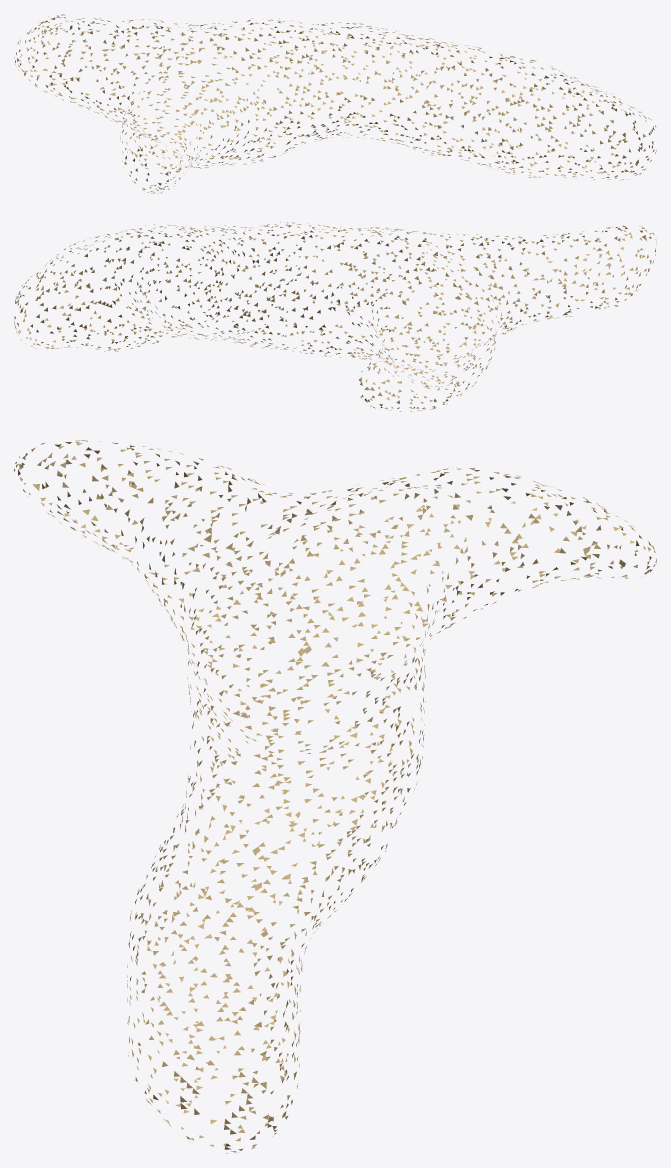
File: morph_007.glb
3 views of the same model, one above another, from view 1: azimuth 30°, elevation 25°; view 2: azimuth 150°, elevation 25°; view 3: azimuth 270°, elevation 25° (orthographic). The views are drawn at different scales.
Size of the model in its own units: 102 by 37.92 by 65.67.
